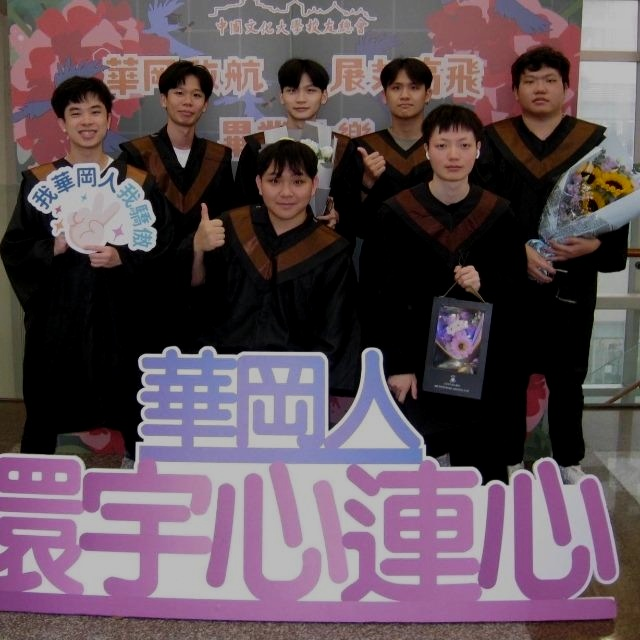Sin_Casco_Mascarrilla: (256, 140, 320, 220), (422, 104, 482, 184), (53, 77, 119, 147), (509, 45, 569, 115), (157, 58, 215, 127), (277, 57, 333, 120), (381, 57, 434, 120)
